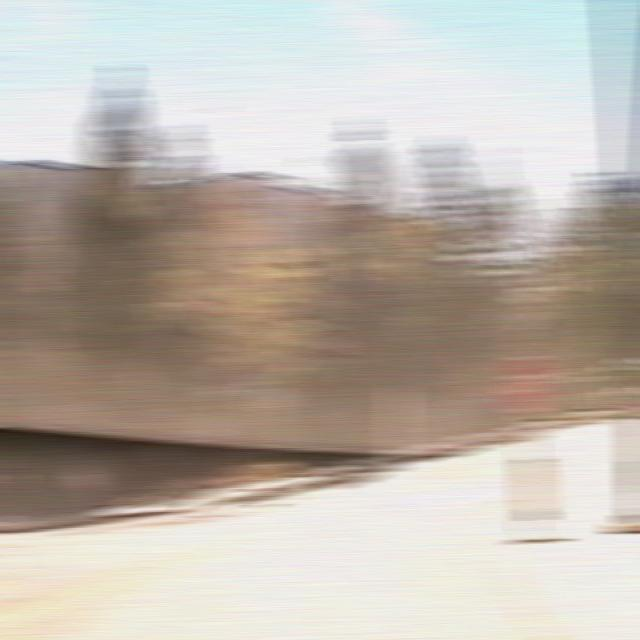stop: (500, 355, 553, 412)
